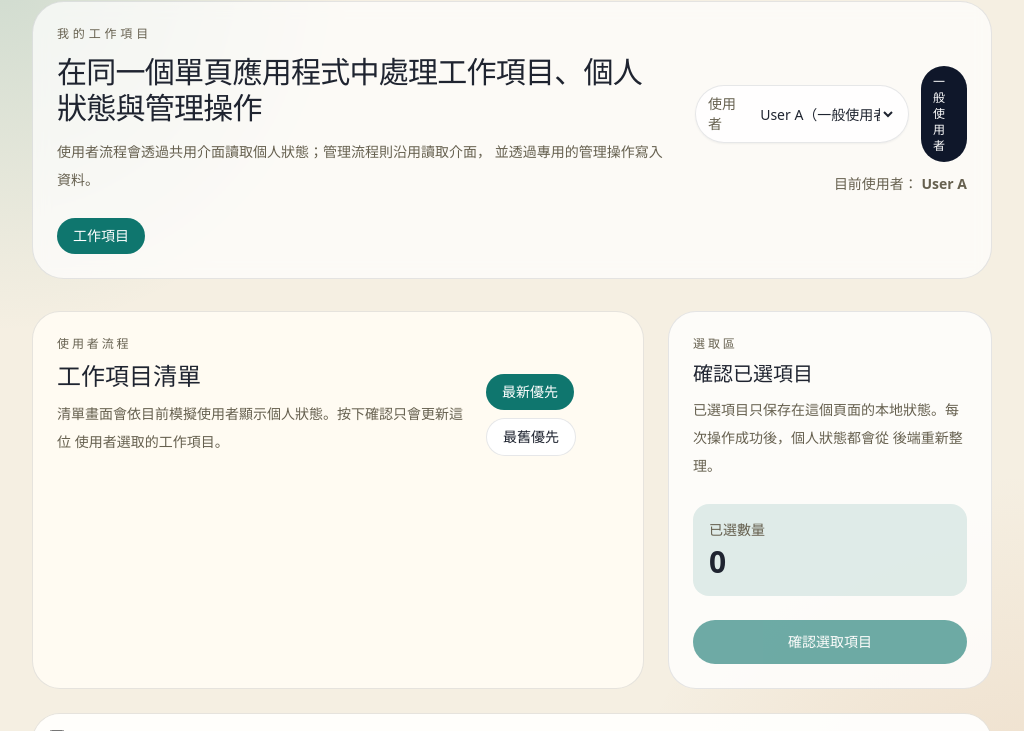
Test case: WorkItemsPage › WorkItemsPage_WhenSortChanges_RequestsAscendingList
Click the button "最舊優先" at (531, 437), box [486,418,576,456]
(page scrolled)
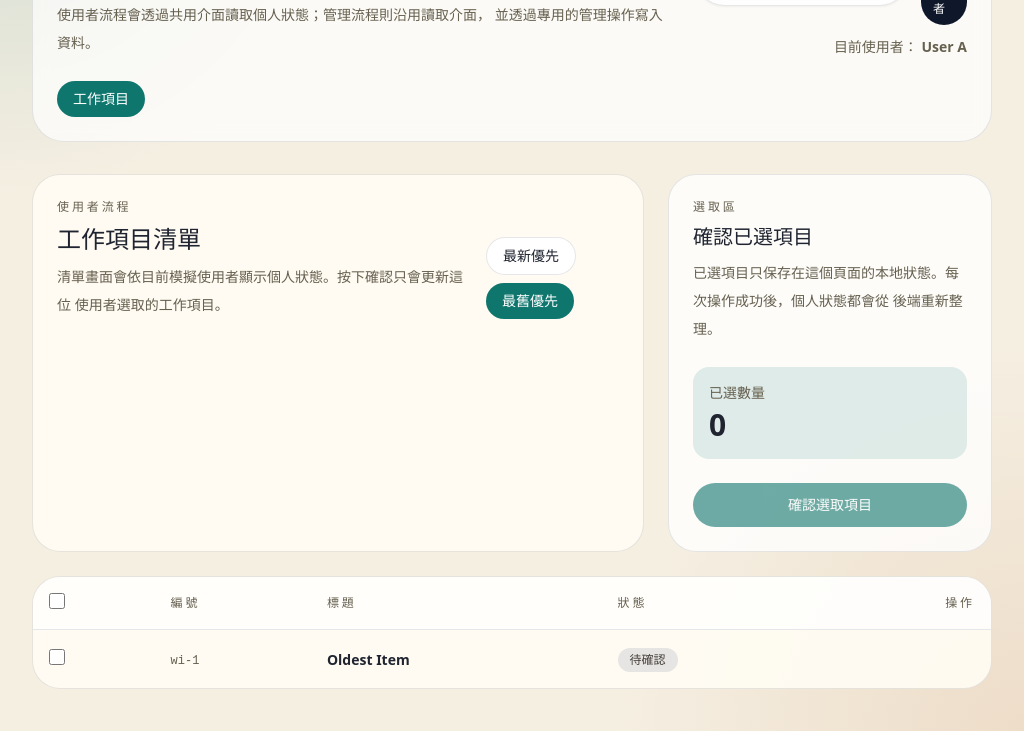
Now the button "Oldest Item" is shown, box [327,650,410,670]
